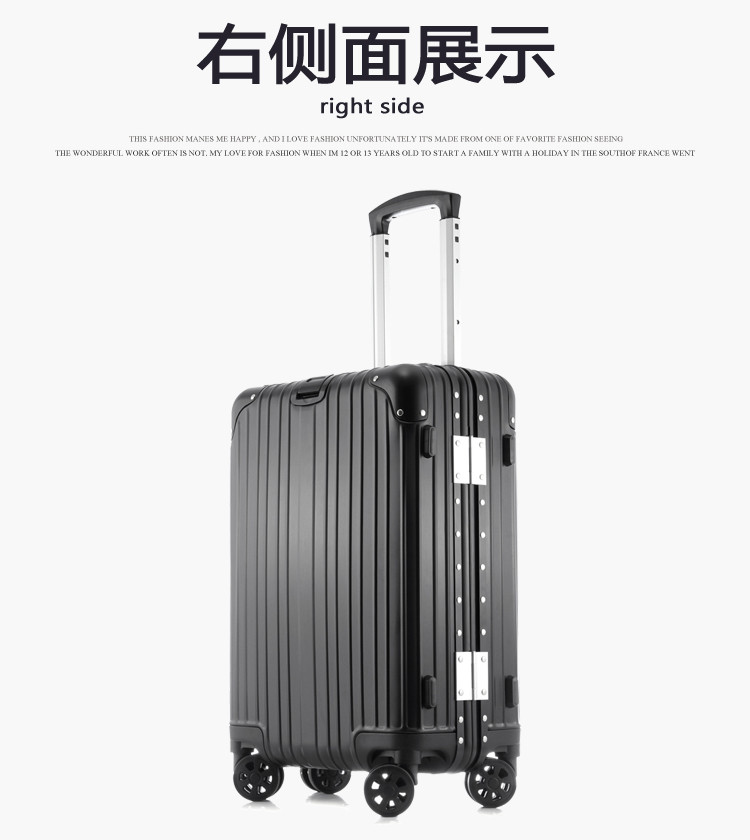luggage: (227, 187, 525, 817)
